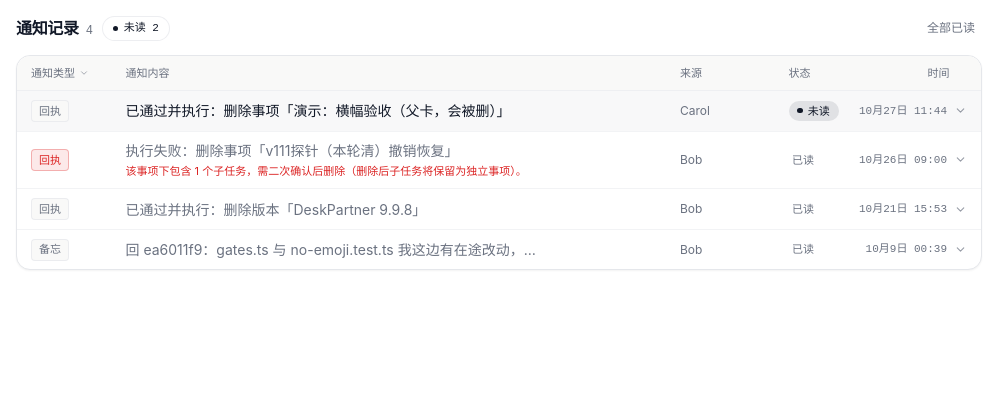
NotificationsView 视觉与人话化改造验证 › 3. 备忘展开后展示结构化阅读卡片（发件人、时间、正文框与操作按钮）
The image size is (999, 397).
Click the text "回 ea6011f9：gates.ts 与 no-emoji.test.ts 我这边有在途改动，…". click: (331, 250)
box: [126,241,536,258]
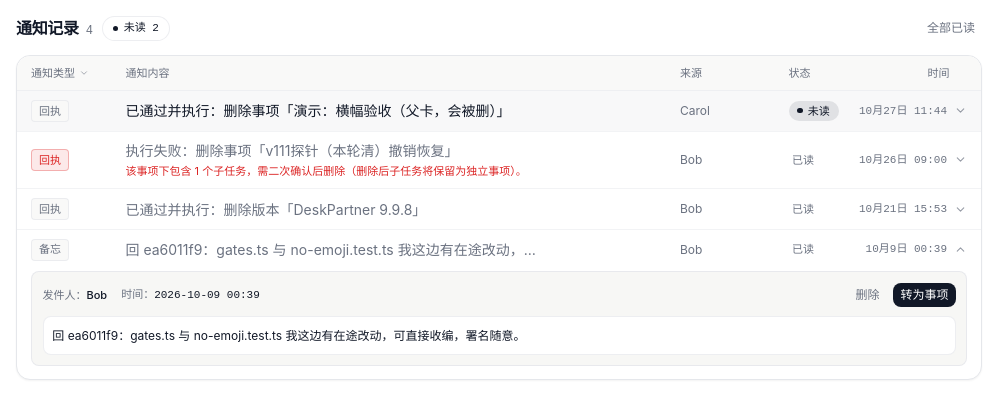
Expected: the text "回 ea6011f9：gates.ts 与 no-emoji.test.ts 我这边有在途改动，可直接收编，署名随意。" is shown, [42,316,956,355]
Expected: the button "转为事项" is shown, [894,282,956,307]
Expected: the button "删除" is shown, [848,282,886,307]
